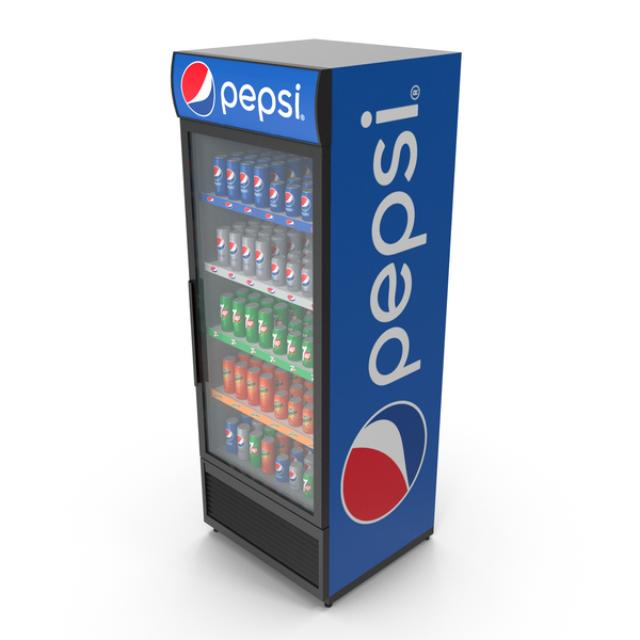Cooling-Display: (153, 35, 463, 622)
